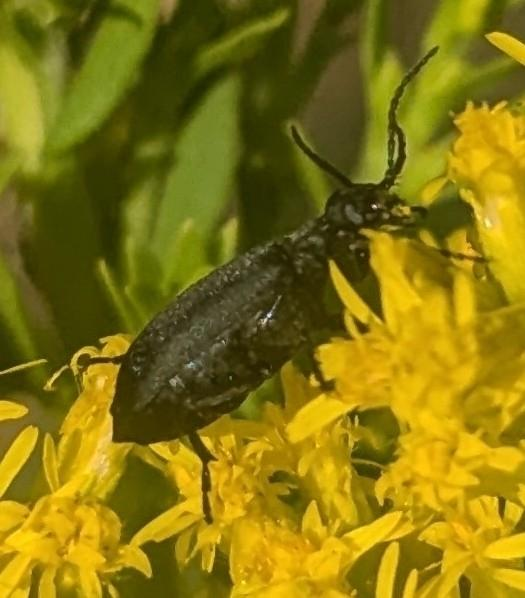blister_beetle: (0, 5, 525, 549)
